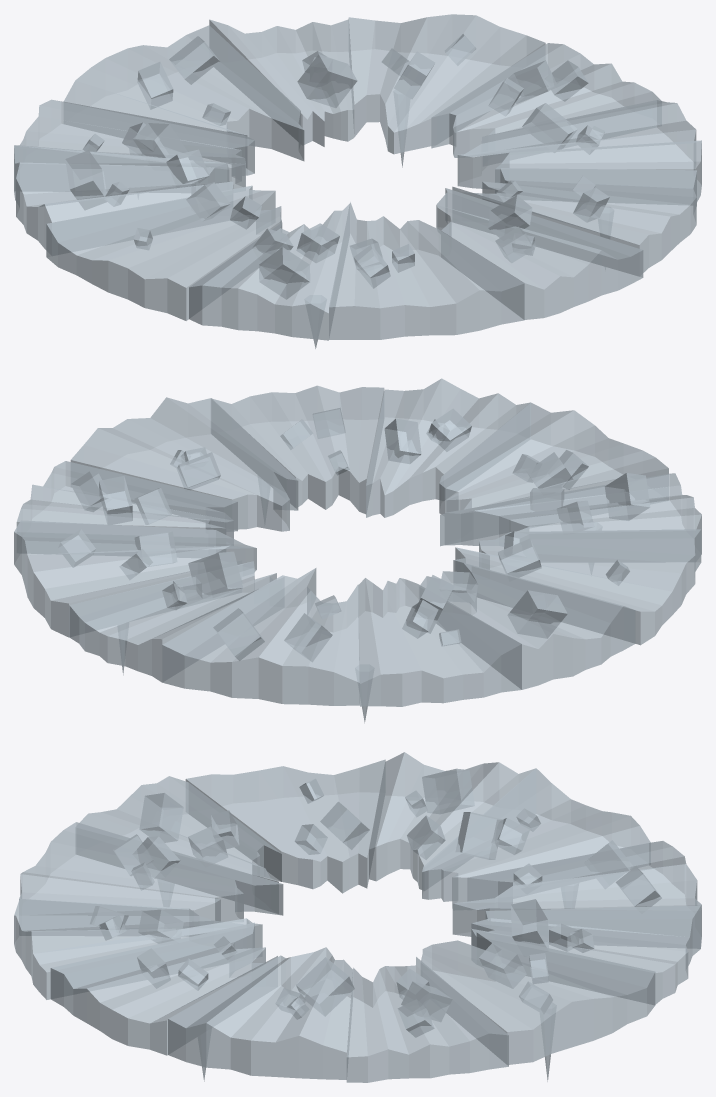
File: rim_ice.glb
3 renders of one model, top to bottom at view 1: azimuth 30°, elevation 25°; view 2: azimuth 150°, elevation 25°; view 3: azimuth 270°, elevation 25°, orthographic.
Visible parts, largest first — view 1: Shard06, Shard03, Shard08, Shard01, Shard11, Shard05, Shard10, Shard09, Shard07, Shard02, Shard04, Shard00; view 2: Shard03, Shard06, Shard01, Shard11, Shard04, Shard08, Shard07, Shard02, Shard09, Shard10, Shard05, Shard00; view 3: Shard01, Shard08, Shard10, Shard11, Shard06, Shard03, Shard09, Shard00, Shard02, Shard07, Shard04, Shard05.
Boxes of the visible parts, bbox=[...] form: Shard06: bbox=[46, 182, 281, 320]; Shard03: bbox=[63, 25, 304, 161]; Shard08: bbox=[329, 202, 524, 339]; Shard01: bbox=[348, 14, 545, 154]; Shard11: bbox=[457, 100, 701, 205]; Shard05: bbox=[14, 145, 233, 255]; Shard10: bbox=[452, 168, 696, 275]; Shard09: bbox=[436, 188, 643, 319]; Shard07: bbox=[189, 203, 349, 340]; Shard02: bbox=[209, 19, 357, 146]; Shard04: bbox=[14, 99, 254, 192]; Shard00: bbox=[431, 43, 661, 157]; Shard03: bbox=[162, 568, 359, 705]; Shard06: bbox=[453, 529, 701, 645]; Shard01: bbox=[14, 520, 256, 637]; Shard11: bbox=[70, 397, 298, 531]; Shard04: bbox=[358, 575, 521, 706]; Shard08: bbox=[439, 402, 668, 546]; Shard07: bbox=[444, 473, 701, 562]; Shard02: bbox=[69, 551, 282, 682]; Shard09: bbox=[366, 378, 530, 517]; Shard10: bbox=[211, 385, 384, 514]; Shard05: bbox=[419, 563, 635, 689]; Shard00: bbox=[16, 461, 237, 557]; Shard01: bbox=[421, 932, 655, 1064]; Shard08: bbox=[19, 822, 283, 936]; Shard10: bbox=[50, 922, 277, 1055]; Shard11: bbox=[168, 947, 354, 1079]; Shard06: bbox=[185, 759, 385, 893]; Shard03: bbox=[452, 840, 701, 948]; Shard09: bbox=[14, 898, 262, 999]; Shard00: bbox=[346, 957, 508, 1082]; Shard02: bbox=[471, 899, 700, 1004]; Shard07: bbox=[76, 776, 281, 913]; Shard04: bbox=[422, 768, 650, 908]; Shard05: bbox=[369, 752, 535, 890].
Bounding box in the file's own units: 0.5063 × 0.1138 × 0.5064.
